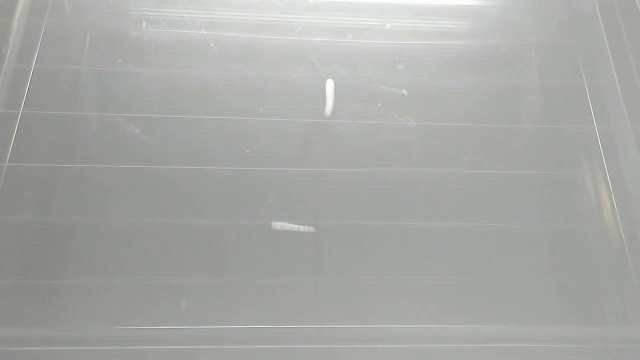alpha: (268, 215, 317, 238), (321, 74, 340, 119)
